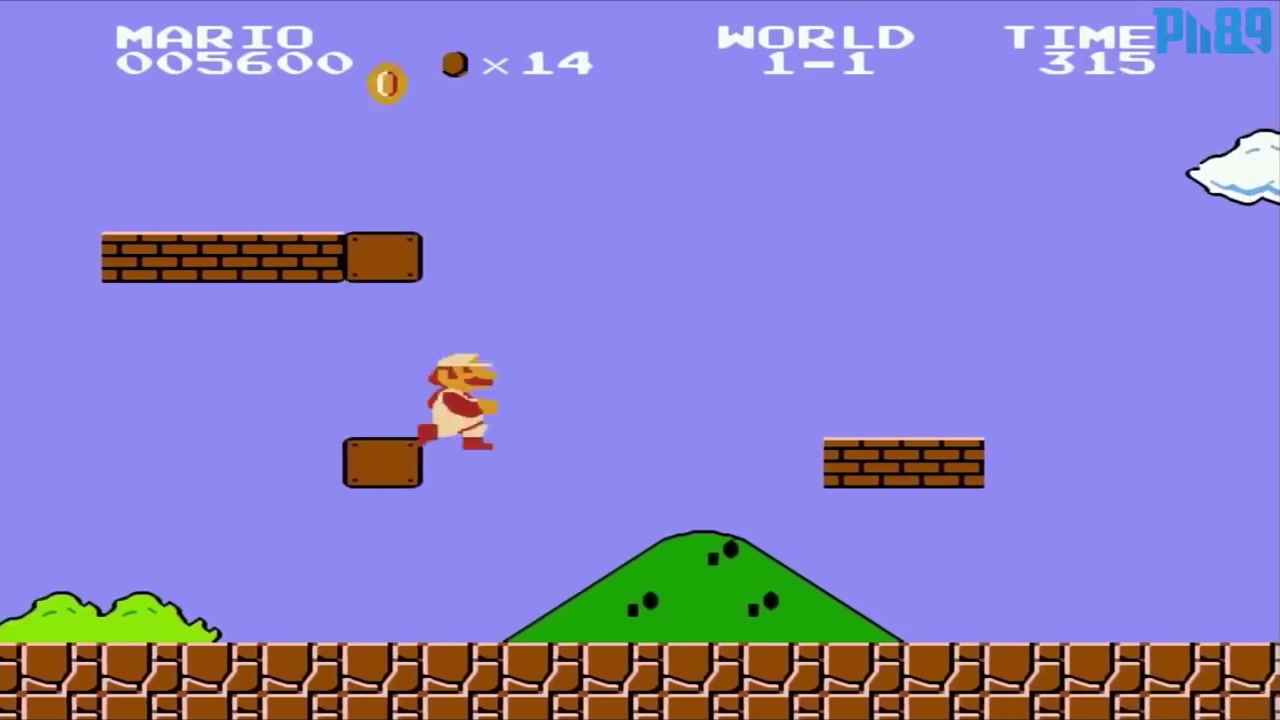mario: (415, 349, 496, 449)
